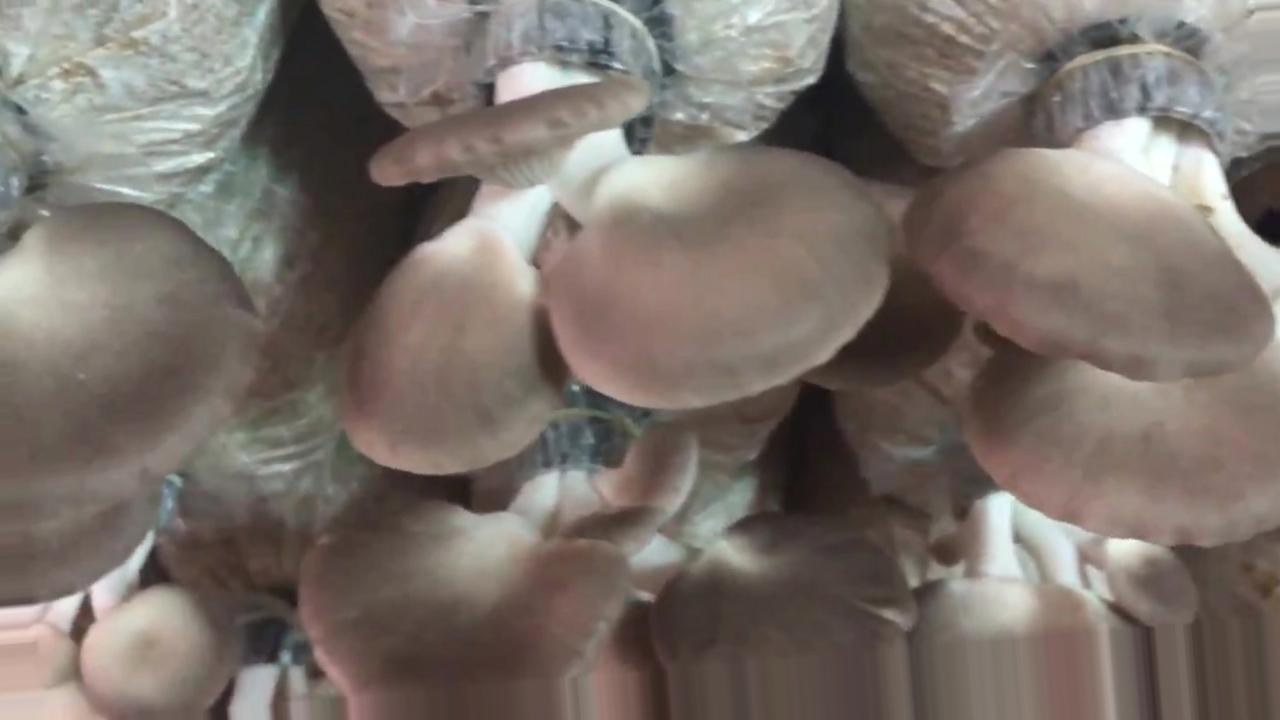nam: (344, 1, 892, 477), (303, 402, 917, 720), (905, 37, 1280, 548), (1, 205, 259, 604)
